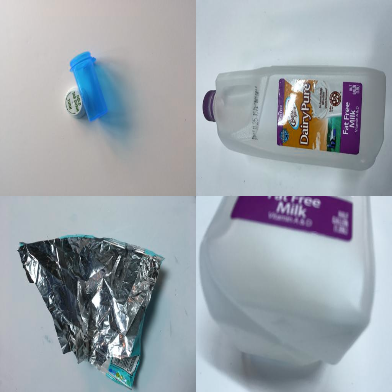plastic: (198, 195, 375, 367), (203, 67, 386, 170), (65, 50, 109, 122)
trash: (18, 234, 165, 390)
